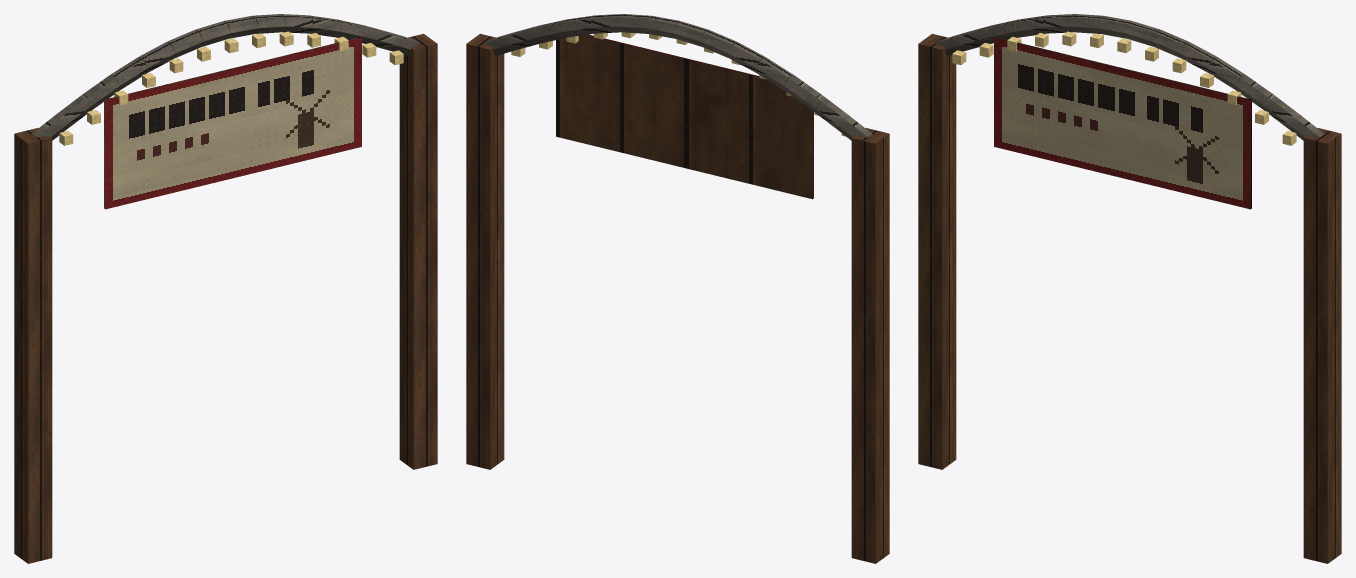
The model's file is arco_feria.obj.
The picture shows the model from 3 angles, left to right: view 1: azimuth 30°, elevation 25°; view 2: azimuth 150°, elevation 25°; view 3: azimuth 330°, elevation 25°; orthographic projection.
Visible parts, largest first — view 1: arco_feria; view 2: arco_feria; view 3: arco_feria.
Part boxes in pixels (box(x1,y1,x2,y2)): arco_feria: box(14, 14, 437, 563); arco_feria: box(466, 14, 889, 563); arco_feria: box(918, 14, 1341, 563).
Size of the model in its own units: 5.1 by 5.79 by 0.325.
Materials: 4 (4 with a texture image).
